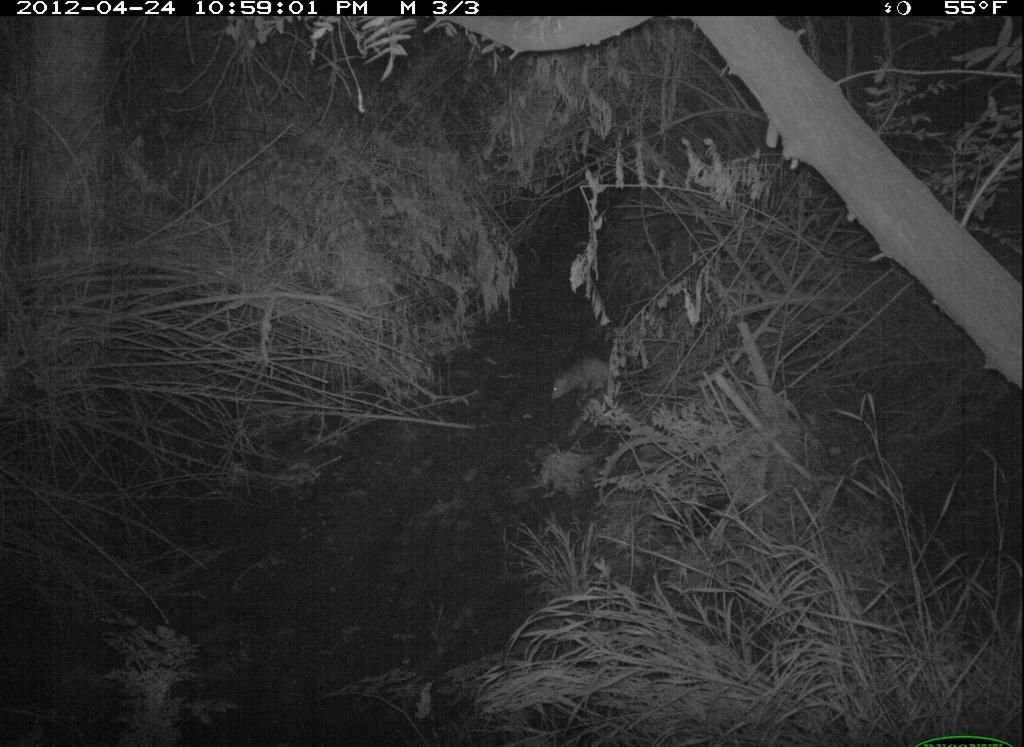opossum: (542, 345, 660, 404)
